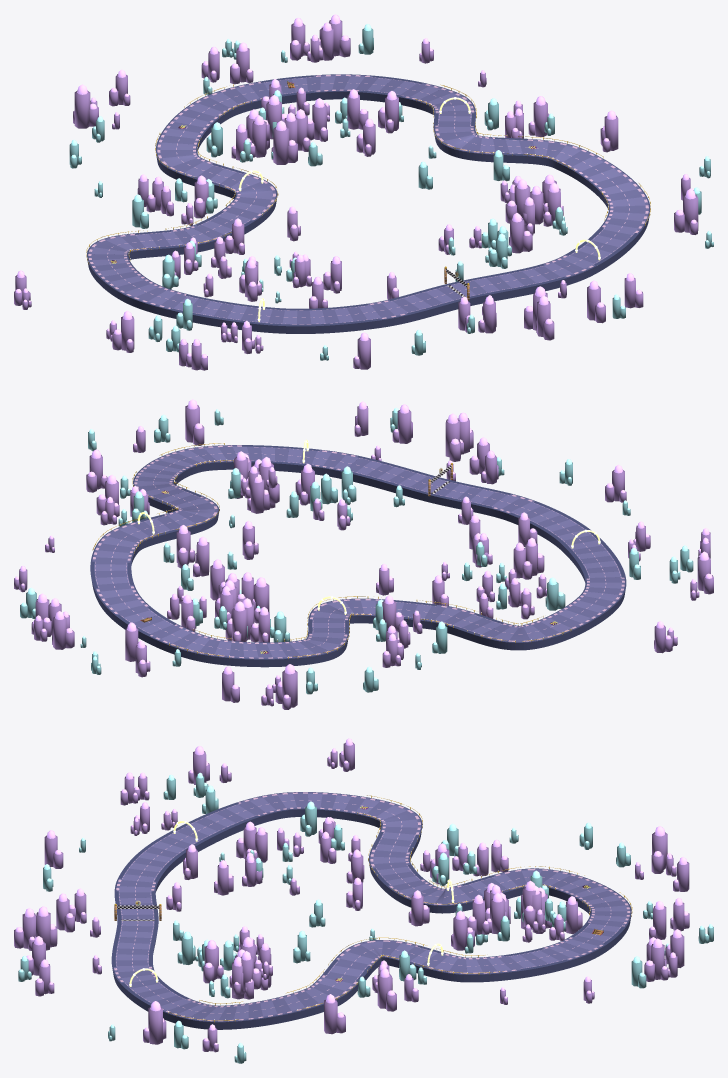
File: carreras_cristal.glb
3 views of the same model, one above another, from view 1: azimuth 30°, elevation 25°; view 2: azimuth 150°, elevation 25°; view 3: azimuth 270°, elevation 25° (orthographic).
Visible parts, largest first — view 1: cristal Laca | cristal #ae8bcd 0 0, cristal Laca | cristal #ae8bcd -1 -1, cristal Laca | cristal #ae8bcd 0 -1, cristal Laca | cristal #ae8bcd -1 0, cristal Tela | camino cristal -1 0, cristal Tela | camino claro cristal -1 0, cristal Tela | camino claro cristal 0 -1, cristal Tela | camino cristal 0 -1, cristal Tela | camino cristal -1 -1, cristal Tela | camino claro cristal -1 -1, cristal Tela | camino cristal 0 0, cristal Tela | camino claro cristal 0 0 (+19 smaller); view 2: cristal Laca | cristal #ae8bcd 0 0, cristal Laca | cristal #ae8bcd -1 -1, cristal Laca | cristal #ae8bcd 0 -1, cristal Laca | cristal #ae8bcd -1 0, cristal Tela | camino cristal -1 0, cristal Tela | camino claro cristal 0 0, cristal Tela | camino claro cristal -1 0, cristal Tela | camino cristal 0 0, cristal Tela | camino claro cristal -1 -1, cristal Tela | camino cristal -1 -1, cristal Tela | camino claro cristal 0 -1, cristal Tela | camino cristal 0 -1 (+22 smaller); view 3: cristal Laca | cristal #ae8bcd 0 0, cristal Laca | cristal #ae8bcd -1 -1, cristal Laca | cristal #ae8bcd 0 -1, cristal Laca | cristal #ae8bcd -1 0, cristal Tela | camino cristal -1 0, cristal Tela | camino claro cristal -1 0, cristal Tela | camino claro cristal 0 -1, cristal Tela | camino cristal 0 -1, cristal Tela | camino claro cristal -1 -1, cristal Tela | camino cristal -1 -1, cristal Tela | camino claro cristal 0 0, cristal Tela | camino cristal 0 0 (+19 smaller).
Boxes of the visible parts, left/top/right/bottom form: cristal Laca | cristal #ae8bcd 0 0: left=201, top=20, right=549, bottom=164; cristal Laca | cristal #ae8bcd -1 -1: left=14, top=241, right=496, bottom=370; cristal Laca | cristal #ae8bcd 0 -1: left=438, top=115, right=698, bottom=340; cristal Laca | cristal #ae8bcd -1 0: left=73, top=74, right=300, bottom=254; cristal Tela | camino cristal -1 0: left=91, top=98, right=271, bottom=271; cristal Tela | camino claro cristal -1 0: left=91, top=103, right=272, bottom=265; cristal Tela | camino claro cristal 0 -1: left=450, top=139, right=645, bottom=297; cristal Tela | camino cristal 0 -1: left=465, top=140, right=645, bottom=295; cristal Tela | camino cristal -1 -1: left=104, top=271, right=462, bottom=324; cristal Tela | camino claro cristal -1 -1: left=99, top=267, right=453, bottom=324; cristal Tela | camino cristal 0 0: left=207, top=76, right=509, bottom=153; cristal Tela | camino claro cristal 0 0: left=209, top=76, right=511, bottom=153; cristal Laca | cristal #ae8bcd 0 0: left=14, top=480, right=269, bottom=677; cristal Laca | cristal #ae8bcd -1 -1: left=441, top=442, right=713, bottom=653; cristal Laca | cristal #ae8bcd 0 -1: left=86, top=405, right=473, bottom=530; cristal Laca | cristal #ae8bcd -1 0: left=222, top=568, right=493, bottom=709; cristal Tela | camino cristal -1 0: left=202, top=600, right=580, bottom=657; cristal Tela | camino claro cristal 0 0: left=94, top=494, right=214, bottom=651; cristal Tela | camino claro cristal -1 0: left=215, top=600, right=570, bottom=657; cristal Tela | camino cristal 0 0: left=94, top=494, right=214, bottom=652; cristal Tela | camino claro cristal -1 -1: left=445, top=484, right=621, bottom=622; cristal Tela | camino cristal -1 -1: left=434, top=482, right=621, bottom=617; cristal Tela | camino claro cristal 0 -1: left=137, top=446, right=446, bottom=501; cristal Tela | camino cristal 0 -1: left=137, top=446, right=437, bottom=499; cristal Laca | cristal #ae8bcd 0 0: left=372, top=886, right=689, bottom=1011; cristal Laca | cristal #ae8bcd -1 -1: left=44, top=742, right=354, bottom=932; cristal Laca | cristal #ae8bcd 0 -1: left=14, top=912, right=345, bottom=1052; cristal Laca | cristal #ae8bcd -1 0: left=346, top=832, right=689, bottom=929; cristal Tela | camino cristal -1 0: left=344, top=797, right=624, bottom=907; cristal Tela | camino claro cristal -1 0: left=356, top=799, right=620, bottom=904; cristal Tela | camino claro cristal 0 -1: left=115, top=921, right=363, bottom=1020; cristal Tela | camino cristal 0 -1: left=115, top=925, right=359, bottom=1020; cristal Tela | camino claro cristal -1 -1: left=118, top=793, right=350, bottom=914; cristal Tela | camino cristal -1 -1: left=118, top=793, right=336, bottom=919; cristal Tela | camino claro cristal 0 0: left=333, top=905, right=626, bottom=972; cristal Tela | camino cristal 0 0: left=334, top=904, right=627, bottom=972.
Size of the model in its own units: 332 by 36.48 by 316.
